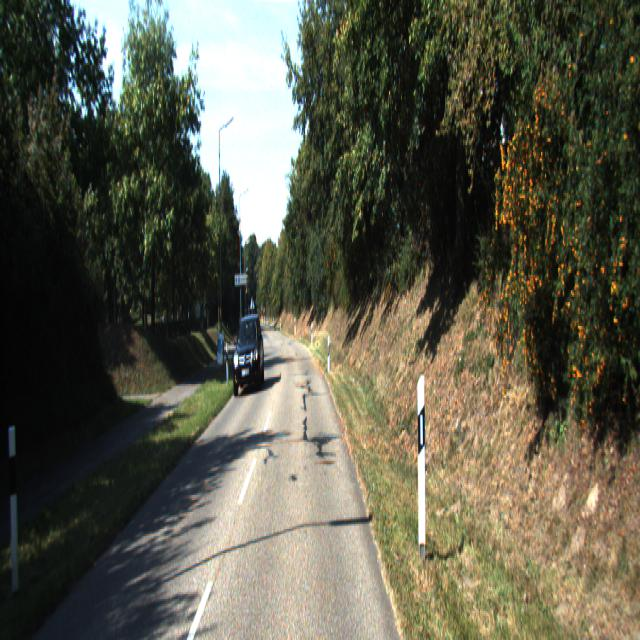Car: (233, 312, 265, 398)
